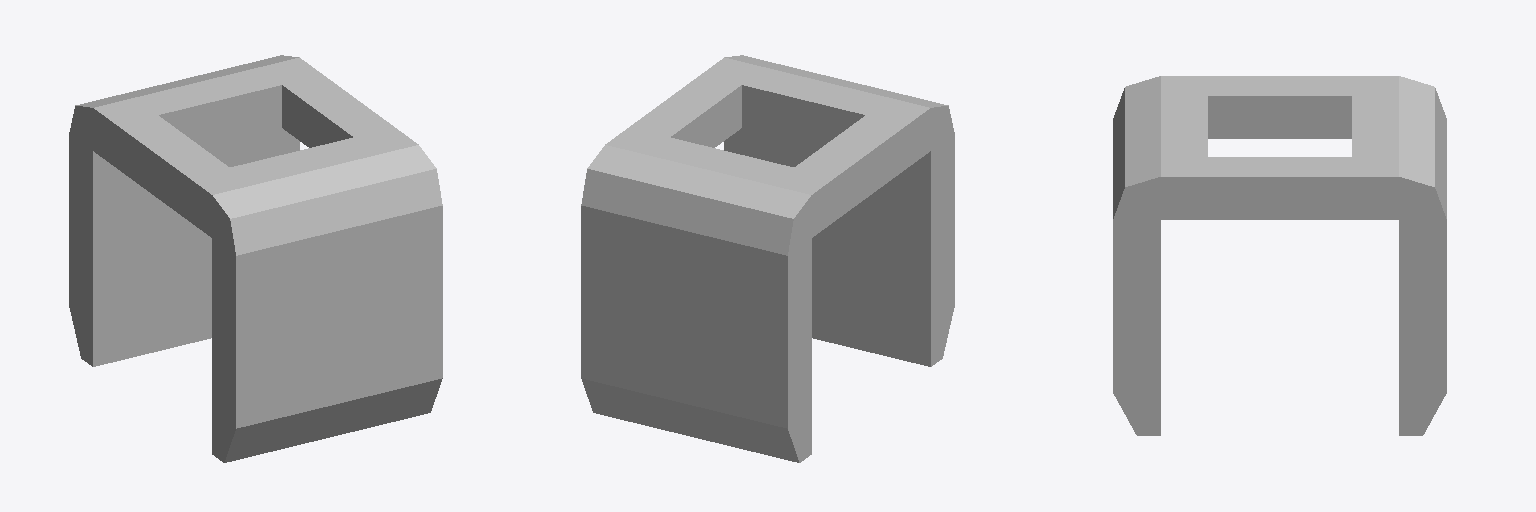
Rendered from cover-top.obj.
The picture shows the model from 3 angles: view 1: azimuth 30°, elevation 25°; view 2: azimuth 150°, elevation 25°; view 3: azimuth 270°, elevation 25°; orthographic projection.
Visible parts, largest first — view 1: cover-top; view 2: cover-top; view 3: cover-top.
Boxes of the visible parts, x1=… form: cover-top: x1=69, y1=55, x2=442, y2=462; cover-top: x1=581, y1=55, x2=954, y2=462; cover-top: x1=1113, y1=76, x2=1446, y2=435.
Bounding box in the file's own units: 1 × 1.2 × 1.4.